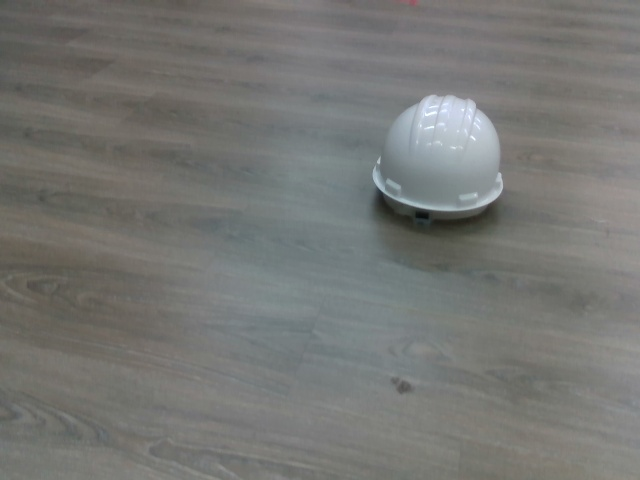helmet: (371, 89, 507, 225)
